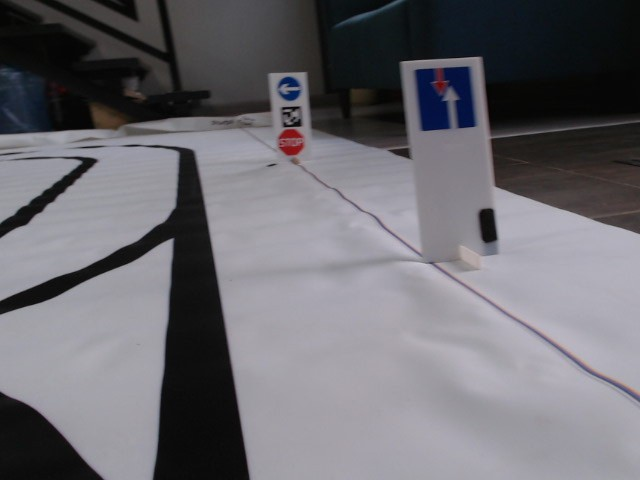Stop: (277, 128, 305, 156)
priority_movement: (411, 67, 480, 132)
